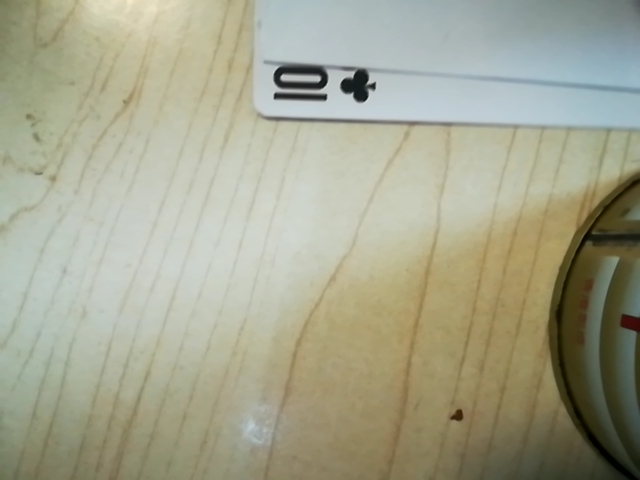mh 10: (259, 52, 388, 119)
